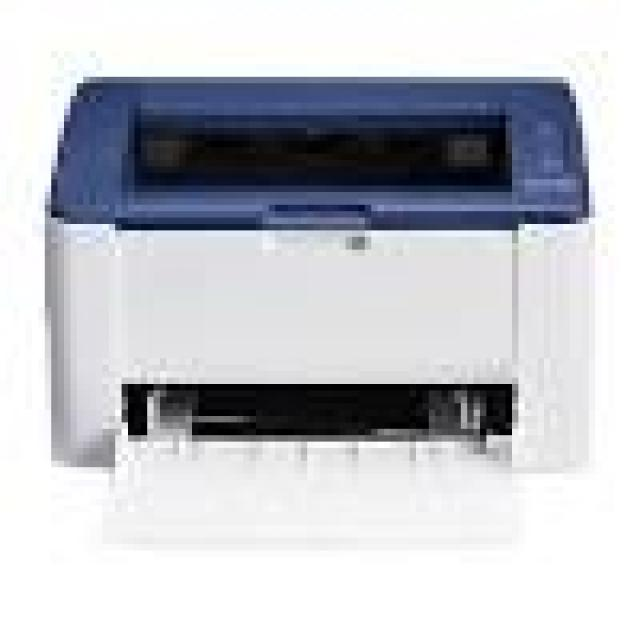printer: (37, 38, 611, 602)
